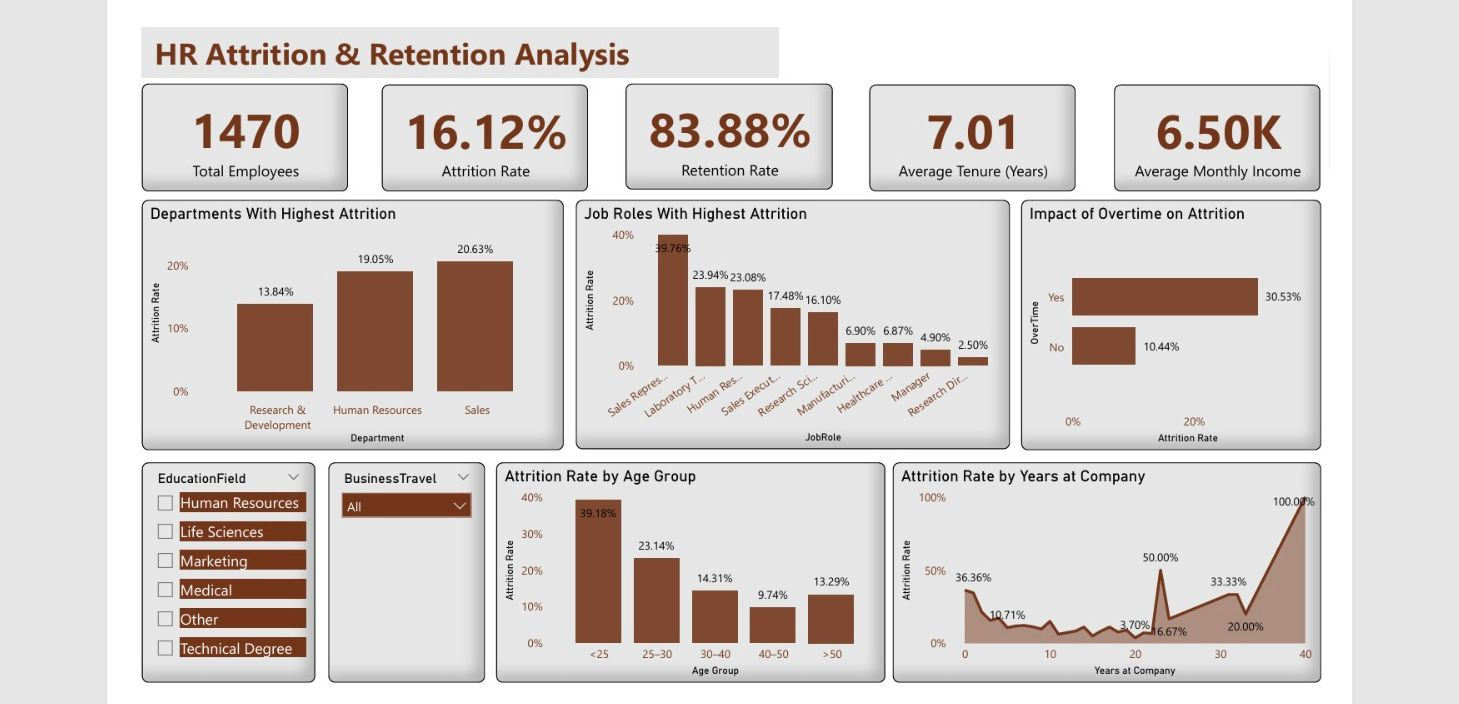

What the dashboard file says about the page in this screenshot:
{"tool":"powerbi","page":{"name":"Attrition Overview & Key Drivers","canvas":[1280,720],"ordinal":0},"visuals":[{"type":"columnChart","title":"Departments With Highest Attrition","fields":{"Y":["HR Employee Attrition&Retention.Attrition Rate"],"Category":["HR Employee Attrition&Retention.Department"]},"box":[13.5,194.4,450,266.6],"z":0},{"type":"columnChart","title":"Job Roles With Highest Attrition","fields":{"Y":["HR Employee Attrition&Retention.Attrition Rate"],"Category":["HR Employee Attrition&Retention.JobRole"]},"box":[475.7,194.4,463.5,265.4],"z":1000},{"type":"card","fields":{"Values":["HR Employee Attrition&Retention.Total Employees"]},"box":[13.5,69.7,220,114.9],"z":2000},{"type":"areaChart","fields":{"Y":["HR Employee Attrition&Retention.Attrition Rate"],"Category":["HR Employee Attrition&Retention.YearsAtCompany"]},"box":[814.4,474.5,456.1,234.8],"z":3000},{"type":"card","fields":{"Values":["HR Employee Attrition&Retention.Attrition Rate"]},"box":[269,70.9,220.1,113.7],"z":4000},{"type":"columnChart","fields":{"Y":["HR Employee Attrition&Retention.Attrition Rate"],"Category":["HR Employee Attrition&Retention.Age Group"]},"box":[391.3,474.5,414.5,234.8],"z":5000},{"type":"card","fields":{"Values":["HR Employee Attrition&Retention.Retention Rate"]},"box":[529.5,69.7,220.1,113.7],"z":6000},{"type":"card","fields":{"Values":["HR Employee Attrition&Retention.Average Tenure (Years)"]},"box":[788.7,70.9,220.1,113.7],"z":7000},{"type":"card","fields":{"Values":["HR Employee Attrition&Retention.Average Monthly Income"]},"box":[1050.4,70.9,220.1,113.7],"z":8000},{"type":"clusteredBarChart","title":"Impact of Overtime on Attrition","fields":{"Y":["HR Employee Attrition&Retention.Attrition Rate"],"Category":["HR Employee Attrition&Retention.OverTime"]},"box":[951.4,194.4,319.2,266.6],"z":9000},{"type":"textbox","box":[13.5,9.8,679.9,53.8],"z":10000},{"type":"slicer","fields":{"Values":["HR Employee Attrition&Retention.EducationField"]},"box":[13.5,474.5,184.6,234.8],"z":11000},{"type":"actionButton","box":[1221.6,9.8,48.9,40.4],"z":12000},{"type":"slicer","fields":{"Values":["HR Employee Attrition&Retention.BusinessTravel"]},"box":[211.6,474.5,167.5,234.8],"z":13000}]}

Visuals, with their boxes in screenshot pixels (x1, y1, x2, y2):
"Departments With Highest Attrition" columnChart: left=142, top=200, right=560, bottom=447
"Job Roles With Highest Attrition" columnChart: left=571, top=200, right=1001, bottom=446
card - HR Employee Attrition&Retention.Total Employees: left=142, top=84, right=346, bottom=190
areaChart - HR Employee Attrition&Retention.Attrition Rate x HR Employee Attrition&Retention.YearsAtCompany: left=885, top=460, right=1309, bottom=678
card - HR Employee Attrition&Retention.Attrition Rate: left=379, top=85, right=583, bottom=190
columnChart - HR Employee Attrition&Retention.Attrition Rate x HR Employee Attrition&Retention.Age Group: left=493, top=460, right=877, bottom=678
card - HR Employee Attrition&Retention.Retention Rate: left=621, top=84, right=825, bottom=189
card - HR Employee Attrition&Retention.Average Tenure (Years): left=862, top=85, right=1066, bottom=190
card - HR Employee Attrition&Retention.Average Monthly Income: left=1105, top=85, right=1309, bottom=190
"Impact of Overtime on Attrition" clusteredBarChart: left=1013, top=200, right=1309, bottom=447
textbox: left=142, top=28, right=773, bottom=78
slicer - HR Employee Attrition&Retention.EducationField: left=142, top=460, right=313, bottom=678
actionButton: left=1264, top=28, right=1309, bottom=66
slicer - HR Employee Attrition&Retention.BusinessTravel: left=326, top=460, right=481, bottom=678
